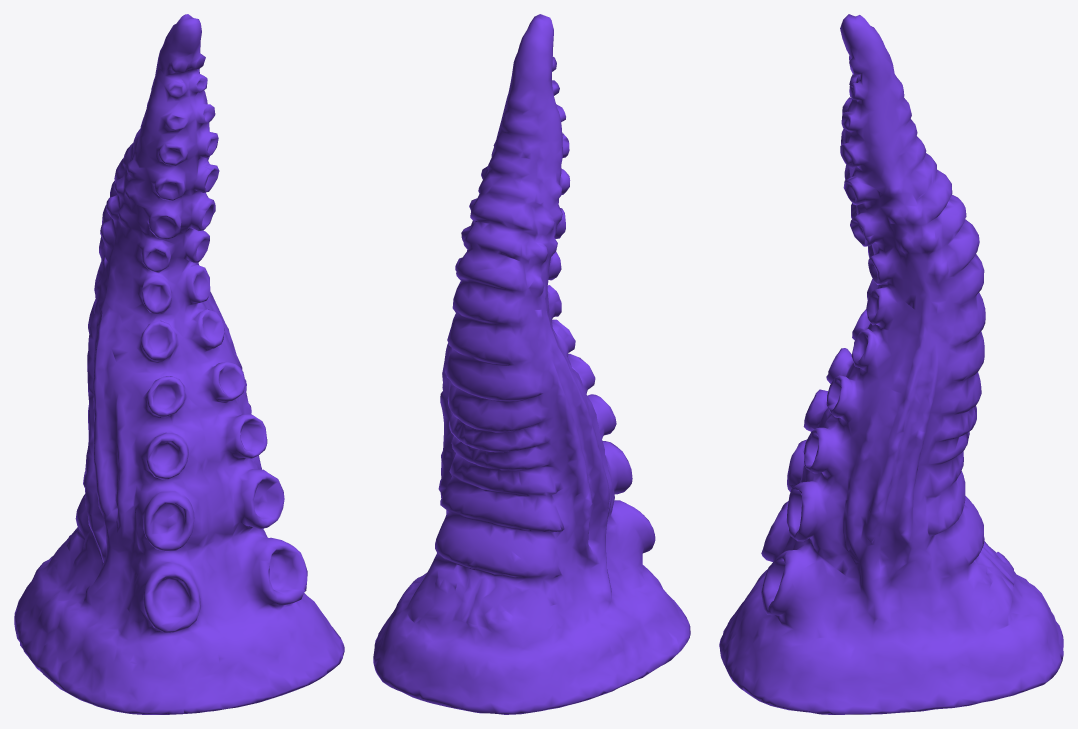
The model's file is small-ar.glb.
The picture shows the model from 3 angles, left to right: view 1: azimuth 30°, elevation 25°; view 2: azimuth 150°, elevation 25°; view 3: azimuth 270°, elevation 25°; orthographic projection. The views are drawn at different scales.
Bounding box in the file's own units: 0.1129 × 0.2592 × 0.1272.
